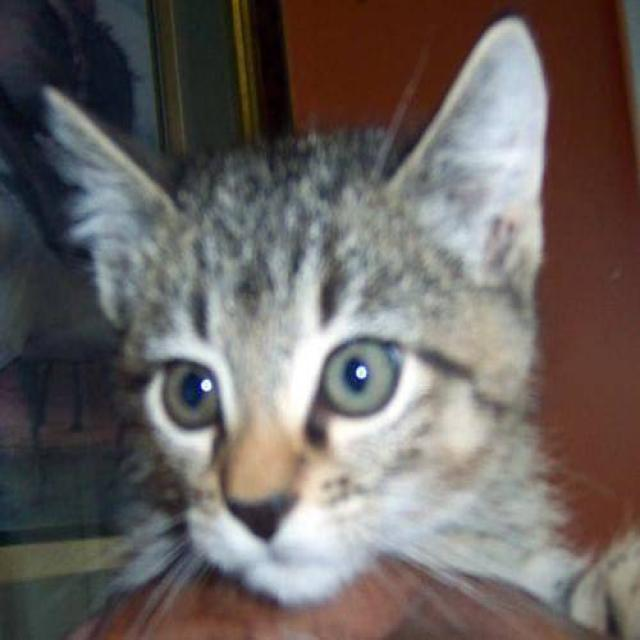cat: (41, 12, 639, 639)
